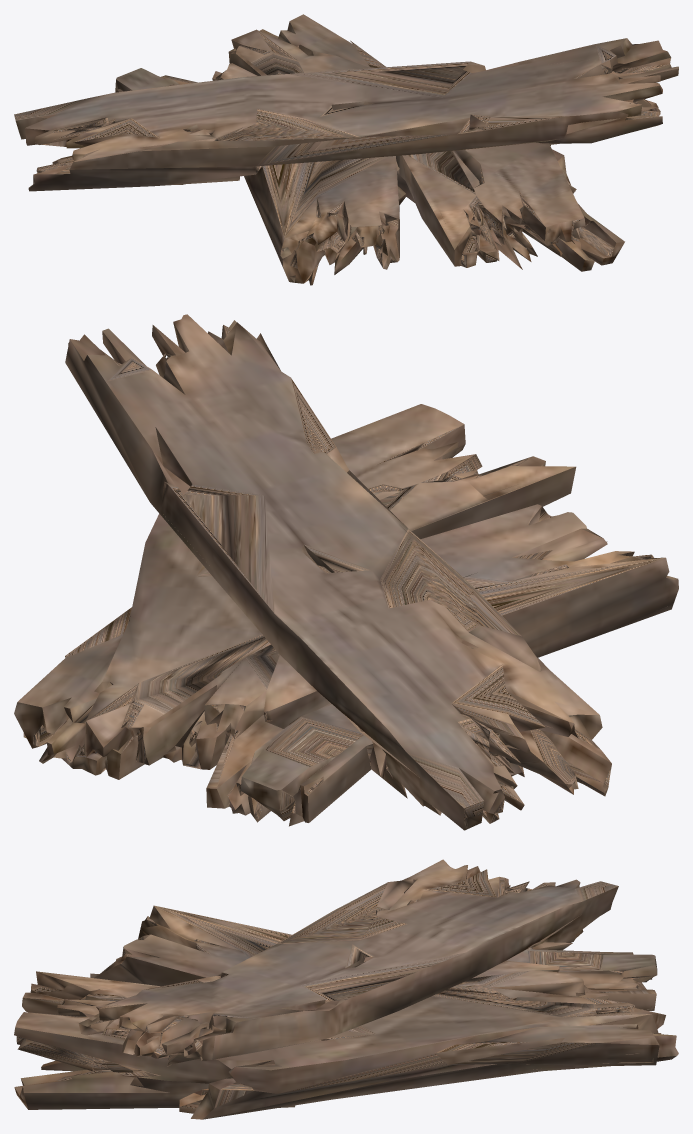
3 renders of one model, top to bottom at view 1: azimuth 30°, elevation 25°; view 2: azimuth 150°, elevation 25°; view 3: azimuth 270°, elevation 25°, orthographic. The views are drawn at different scales.
Parts seen in each view (by area): view 1: geometry_0; view 2: geometry_0; view 3: geometry_0.
Part boxes in pixels (left/top/right/bottom): geometry_0: left=14, top=14, right=678, bottom=285; geometry_0: left=14, top=314, right=678, bottom=830; geometry_0: left=14, top=859, right=678, bottom=1119.
Size of the model in its own units: 0.5993 by 0.1481 by 0.6021.
Materials: 1 (1 with a texture image).
